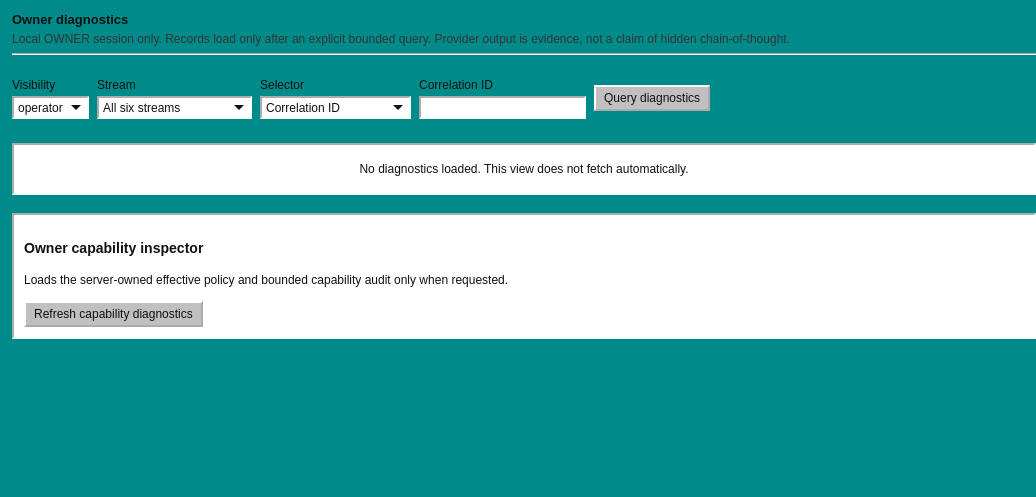
Scenario: owner diagnostic dashboard › preserves the explicit owner capability inspector
Step 1. Click the button "Refresh capability diagnostics" → (113, 314), box [24,301,203,327]
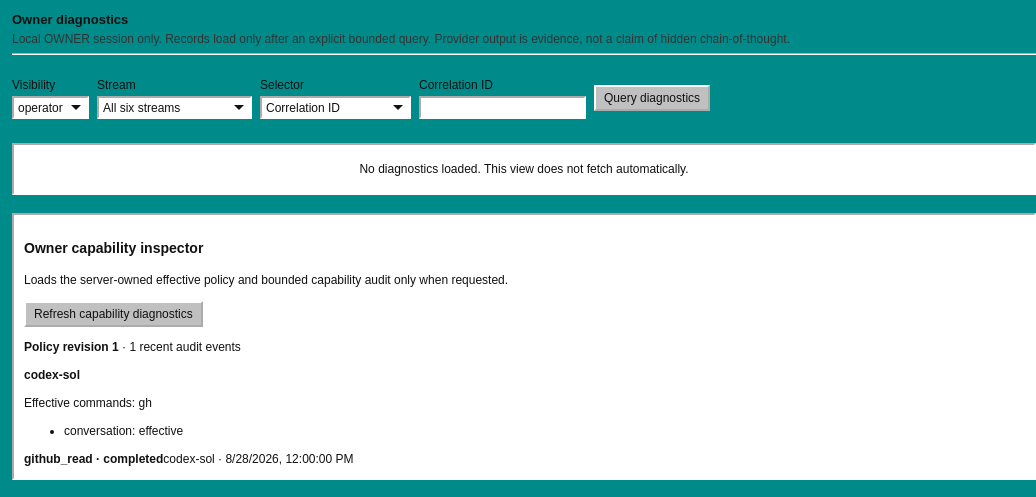
Now the text "Policy revision 1" is shown, box [24,340,119,354]
Now the element named "Capability audit events" shows "github_read · completed", box [24,452,354,466]
